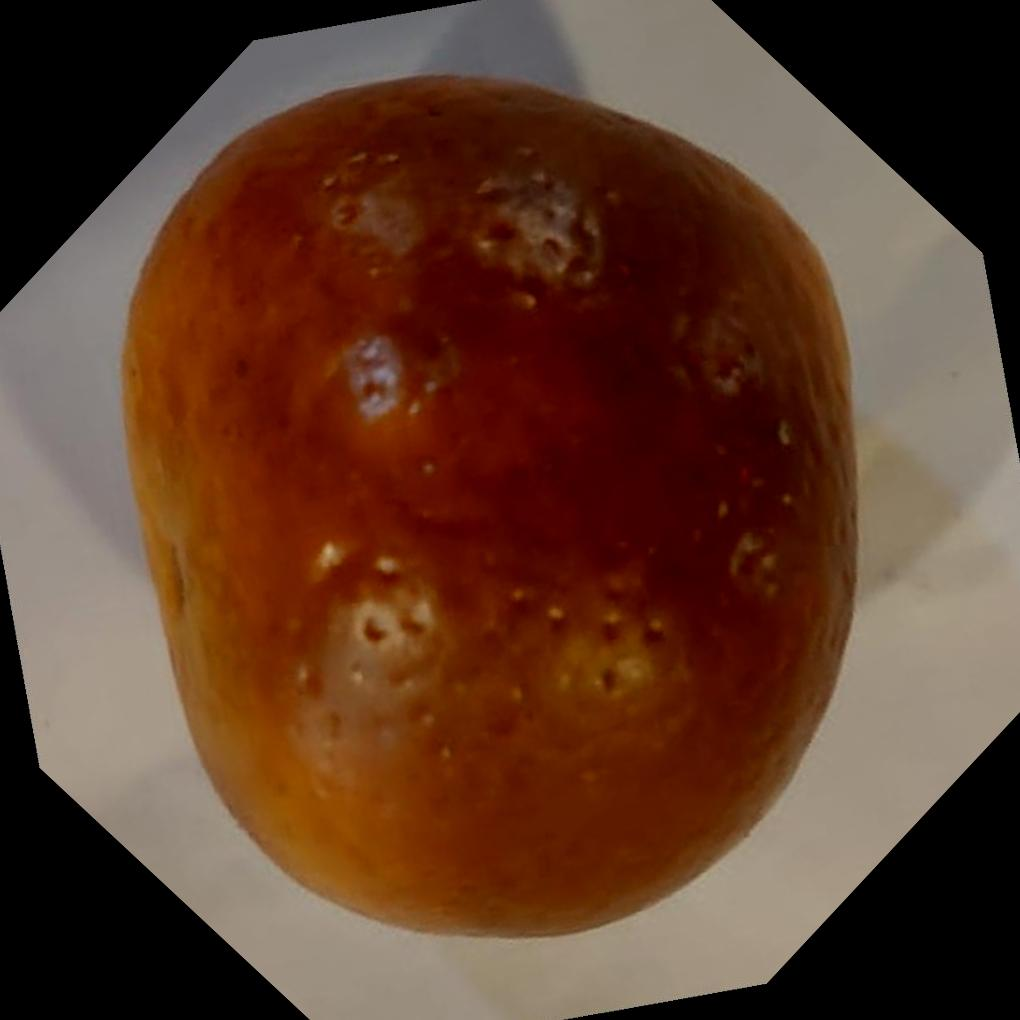FreshOrange: (114, 66, 860, 940)
